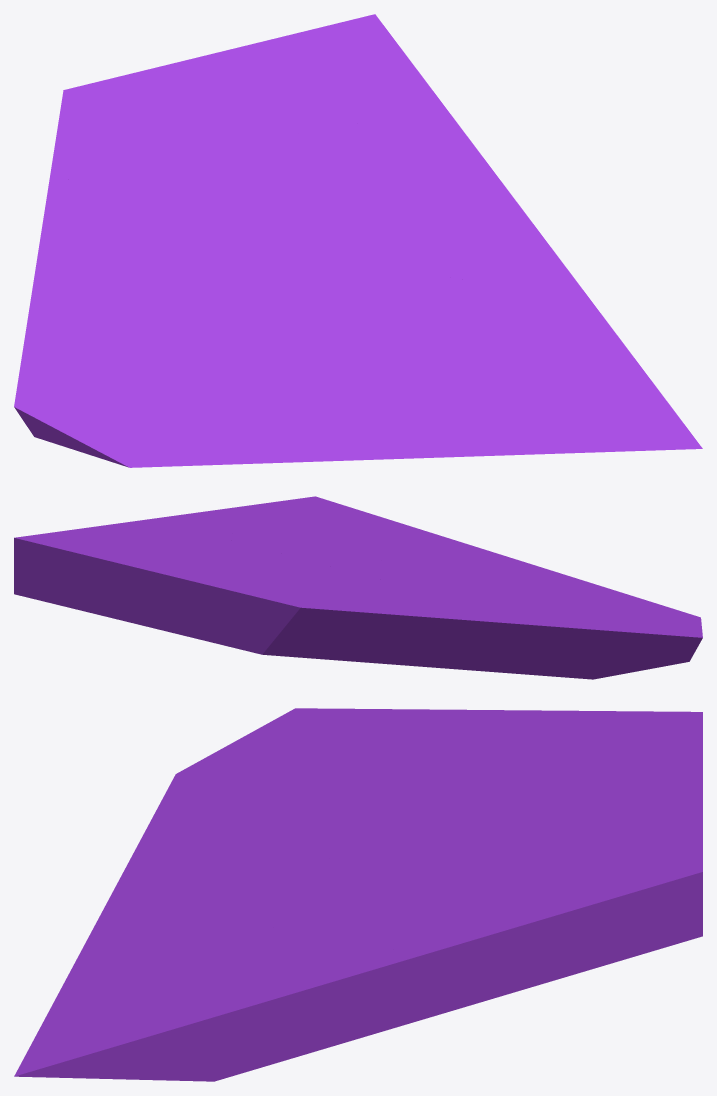
Rendered from Window_152_3_chunks.fbx.
3 renders of one model, top to bottom at view 1: azimuth 30°, elevation 25°; view 2: azimuth 150°, elevation 25°; view 3: azimuth 270°, elevation 25°, orthographic. The views are drawn at different scales.
Visible parts, largest first — view 1: Window_152_3_9, Window_152_3_13, Window_152_3_3, Window_152_3_16, Window_152_3_14, Window_152_3_11, Window_152_3_2, Window_152_3_12, Window_152_3_8, Window_152_3_1, Window_152_3_17, Window_152_3_15 (+2 smaller); view 2: Window_152_3_14, Window_152_3_3, Window_152_3_12, Window_152_3_9, Window_152_3_1, Window_152_3_11, Window_152_3_13, Window_152_3_16, Window_152_3_2, Window_152_3_8, Window_152_3_17, Window_152_3_15 (+2 smaller); view 3: Window_152_3_9, Window_152_3_13, Window_152_3_16, Window_152_3_14, Window_152_3_3, Window_152_3_11, Window_152_3_2, Window_152_3_12, Window_152_3_5, Window_152_3_1, Window_152_3_8, Window_152_3_17 (+3 smaller).
Part boxes in pixels (bbox=[...]): Window_152_3_9: bbox=[224, 302, 540, 464]; Window_152_3_13: bbox=[278, 94, 523, 251]; Window_152_3_3: bbox=[14, 202, 162, 451]; Window_152_3_16: bbox=[498, 303, 702, 454]; Window_152_3_14: bbox=[150, 14, 435, 140]; Window_152_3_11: bbox=[58, 69, 313, 195]; Window_152_3_2: bbox=[82, 319, 232, 467]; Window_152_3_12: bbox=[51, 124, 293, 261]; Window_152_3_8: bbox=[233, 216, 493, 310]; Window_152_3_1: bbox=[46, 171, 235, 319]; Window_152_3_17: bbox=[452, 212, 592, 309]; Window_152_3_15: bbox=[464, 296, 537, 406]; Window_152_3_14: bbox=[14, 530, 278, 655]; Window_152_3_3: bbox=[443, 601, 702, 676]; Window_152_3_12: bbox=[271, 569, 403, 663]; Window_152_3_9: bbox=[355, 530, 635, 597]; Window_152_3_1: bbox=[378, 582, 505, 671]; Window_152_3_11: bbox=[200, 558, 343, 634]; Window_152_3_13: bbox=[70, 519, 343, 569]; Window_152_3_16: bbox=[215, 496, 423, 536]; Window_152_3_2: bbox=[462, 586, 701, 625]; Window_152_3_8: bbox=[177, 525, 440, 585]; Window_152_3_17: bbox=[152, 510, 275, 537]; Window_152_3_15: bbox=[258, 522, 394, 541]; Window_152_3_9: bbox=[60, 817, 362, 990]; Window_152_3_13: bbox=[391, 833, 575, 1003]; Window_152_3_16: bbox=[14, 965, 265, 1080]; Window_152_3_14: bbox=[554, 756, 702, 974]; Window_152_3_3: bbox=[224, 708, 558, 780]; Window_152_3_11: bbox=[491, 711, 702, 848]; Window_152_3_2: bbox=[149, 747, 362, 824]; Window_152_3_12: bbox=[411, 711, 658, 845]; Window_152_3_5: bbox=[189, 962, 474, 1081]; Window_152_3_1: bbox=[341, 710, 597, 817]; Window_152_3_8: bbox=[322, 815, 416, 948]; Window_152_3_17: bbox=[244, 931, 393, 1035].
Size of the model in its own units: 949 by 326 by 970.
